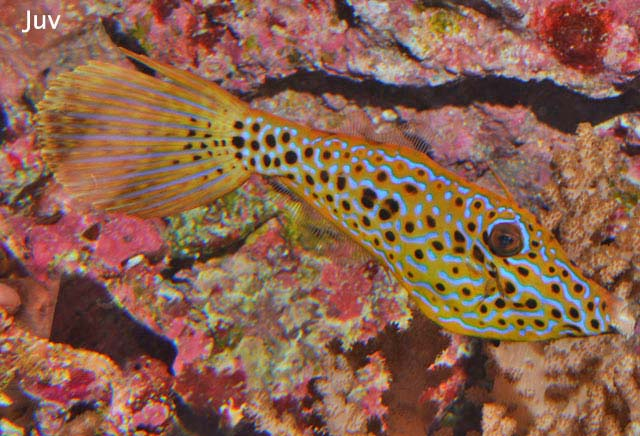Aluterus_scriptus: (38, 46, 623, 349)
